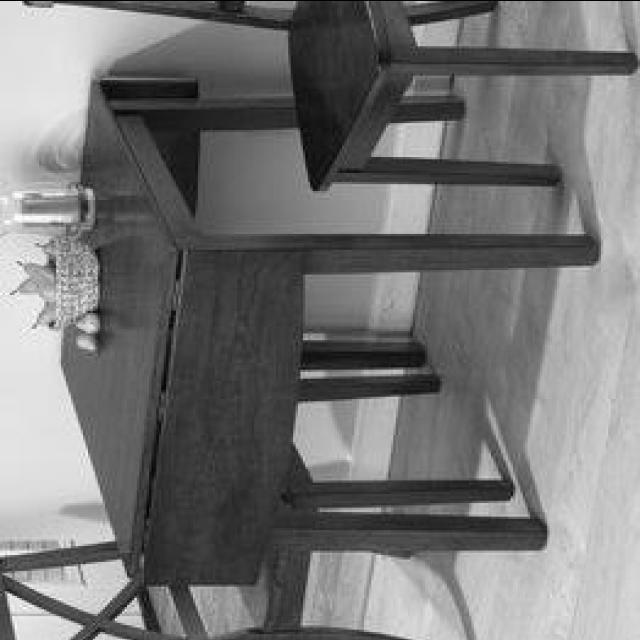chair: (0, 368, 528, 639), (26, 1, 636, 192)
table: (61, 60, 596, 590)
